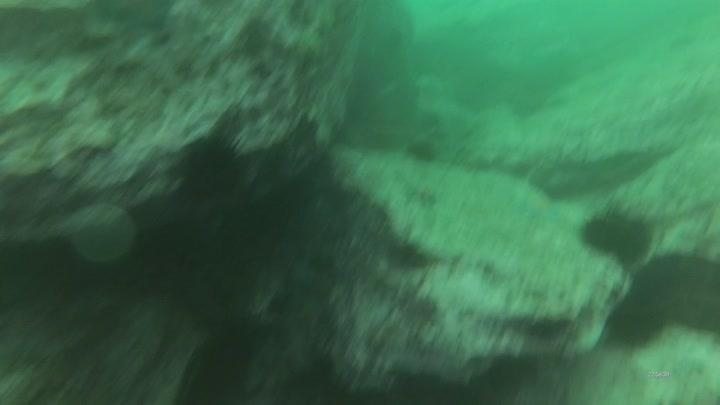echinus: (174, 131, 252, 207), (577, 203, 656, 268), (603, 290, 669, 352), (403, 137, 440, 167)
starfish: (512, 186, 562, 227)
